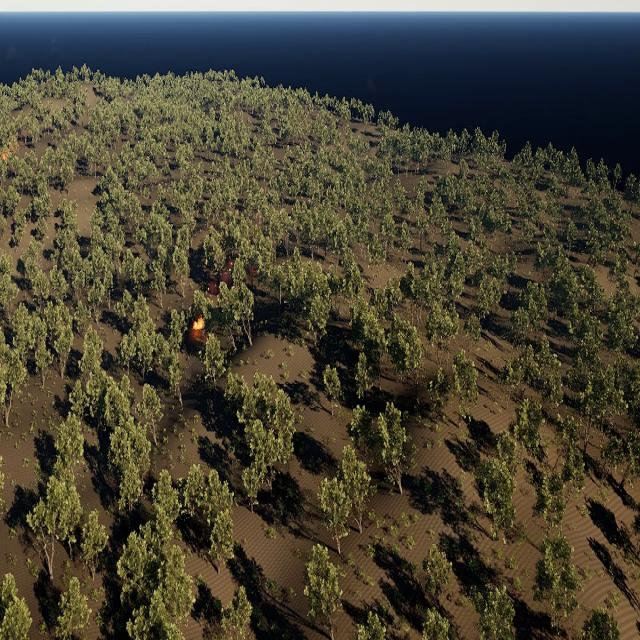fire: (191, 318, 203, 332), (0, 151, 6, 159)
